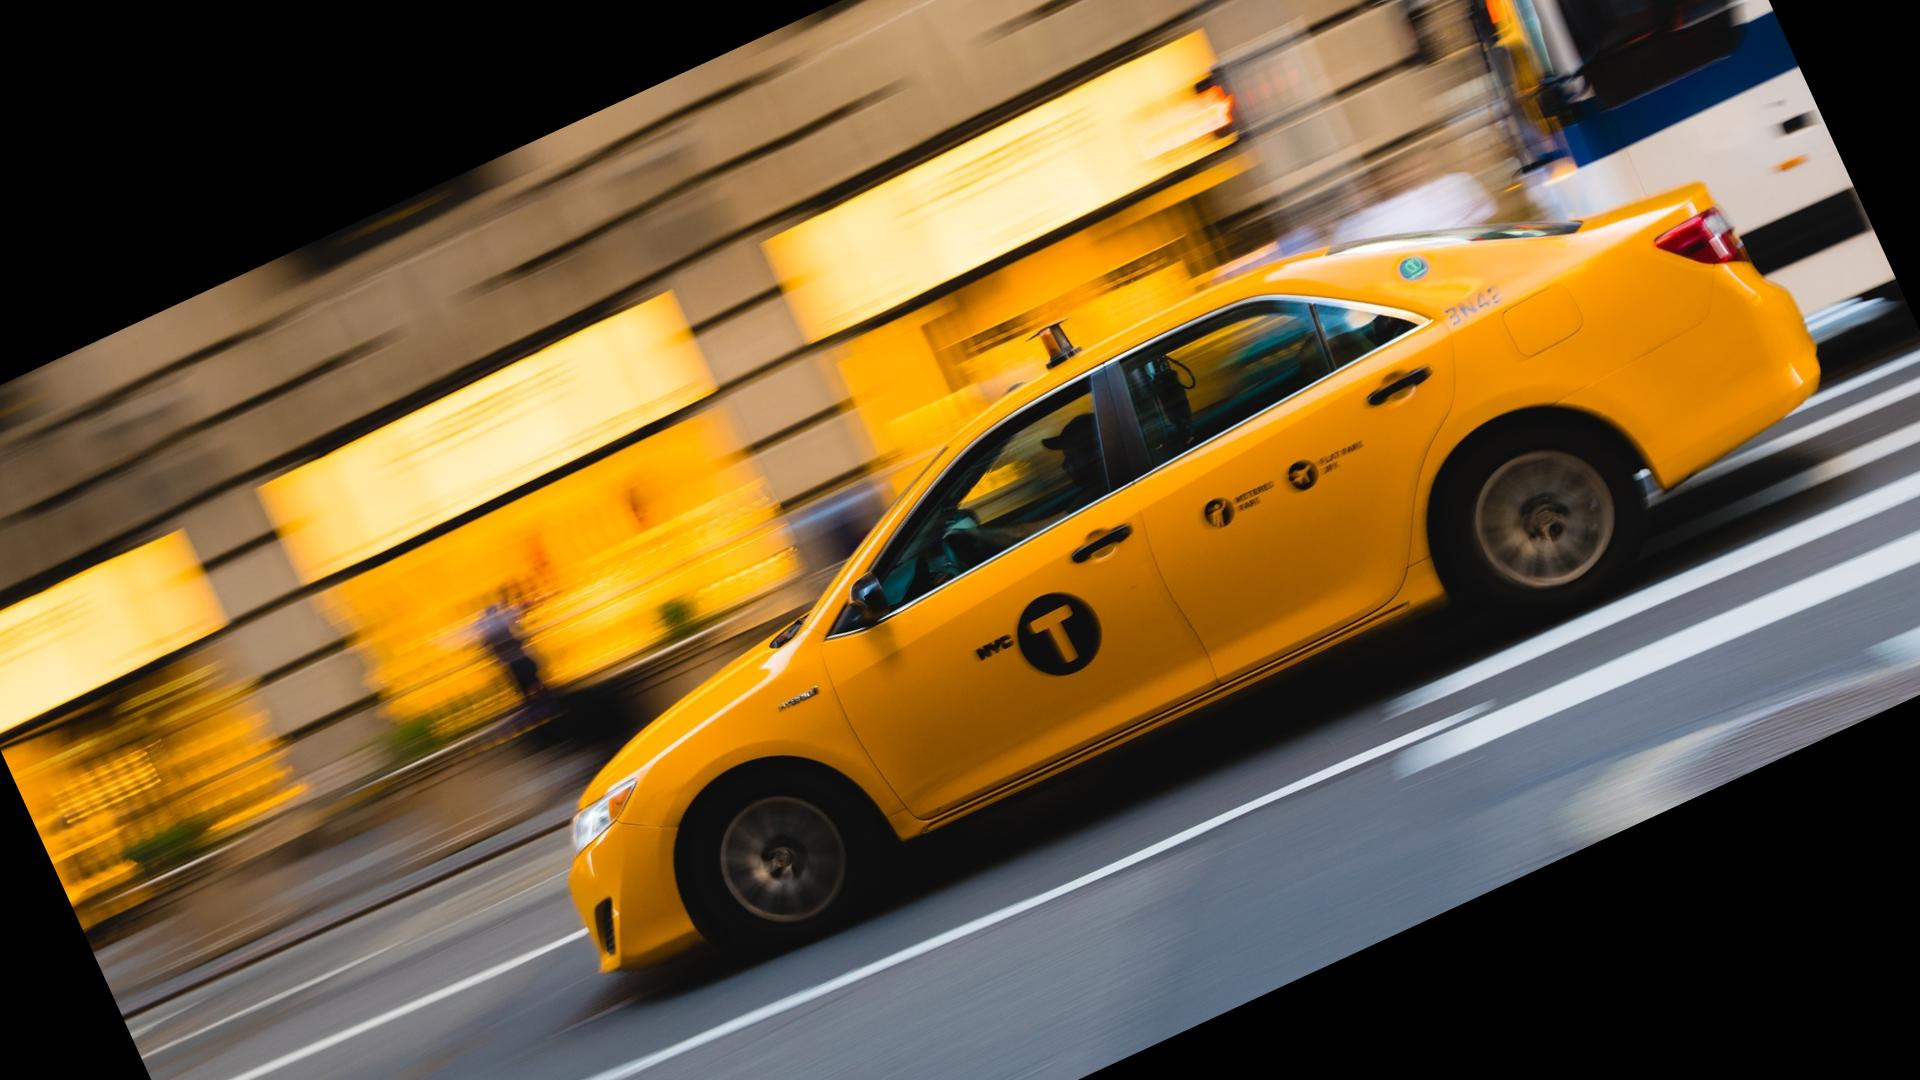taxi: (555, 191, 1797, 1004)
